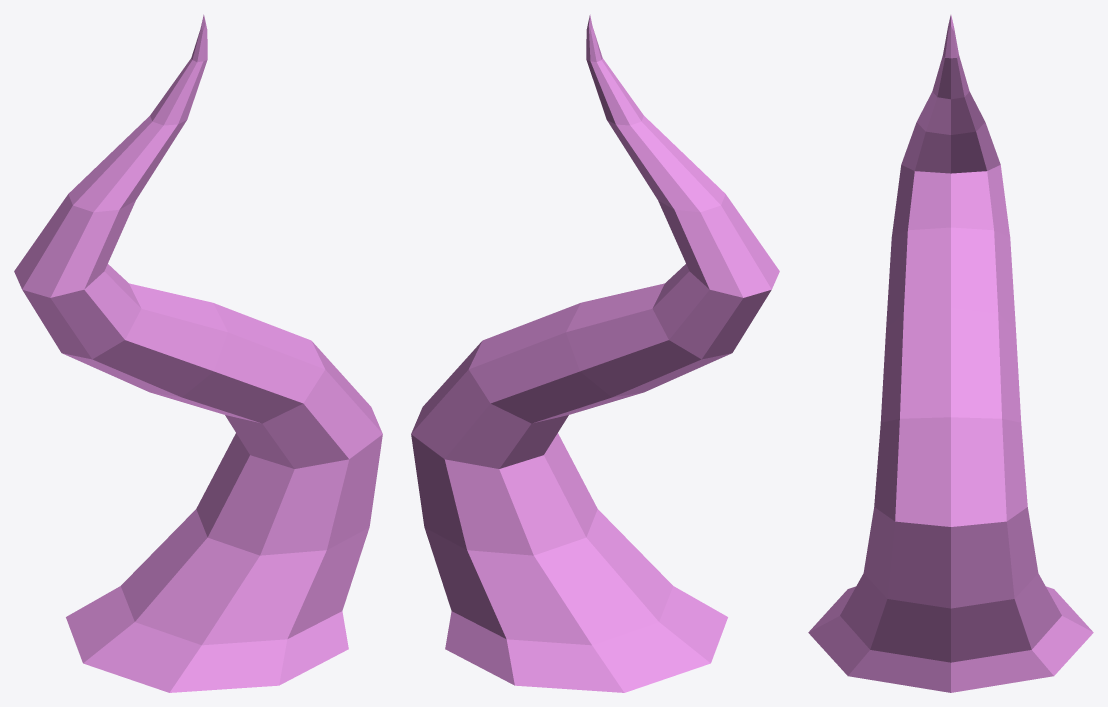
The model's file is Spine 06.fbx.
3 views of the same model, side by side, from view 1: azimuth 30°, elevation 25°; view 2: azimuth 150°, elevation 25°; view 3: azimuth 270°, elevation 25° (orthographic).
Parts seen in each view (by area): view 1: Spine 06; view 2: Spine 06; view 3: Spine 06.
Part boxes in pixels (x1,y1,x2,y2): Spine 06: (14,14,382,692); Spine 06: (411,14,779,692); Spine 06: (808,15,1093,692).
Bounding box in the file's own units: 34.72 × 59.28 × 24.71.
